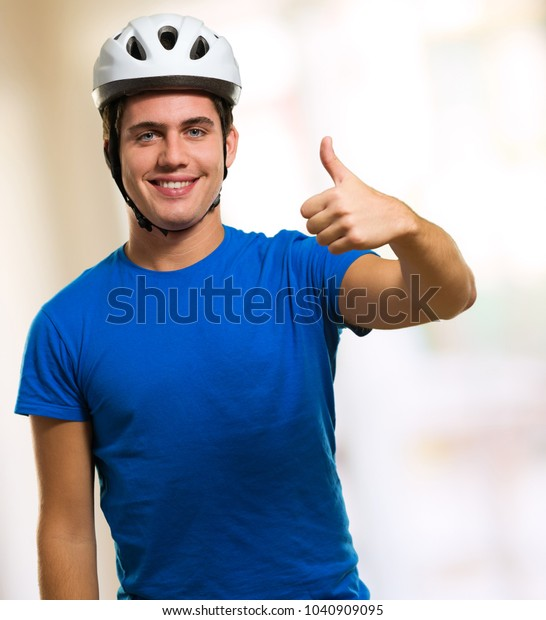helmet: (93, 13, 241, 232)
